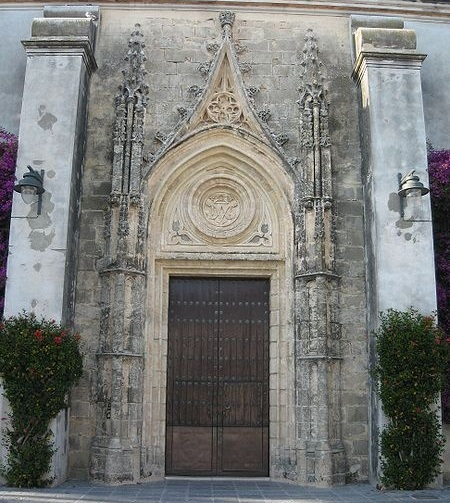arco-apuntado: (151, 134, 292, 256)
